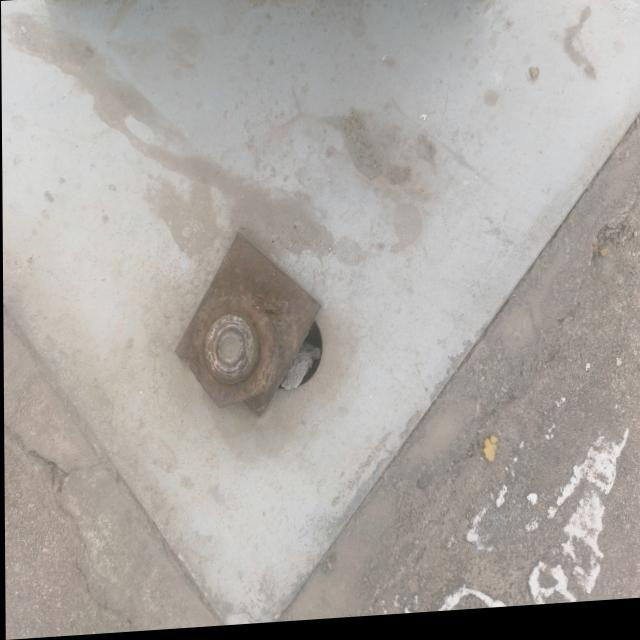Regular bolt: (188, 288, 277, 415)
